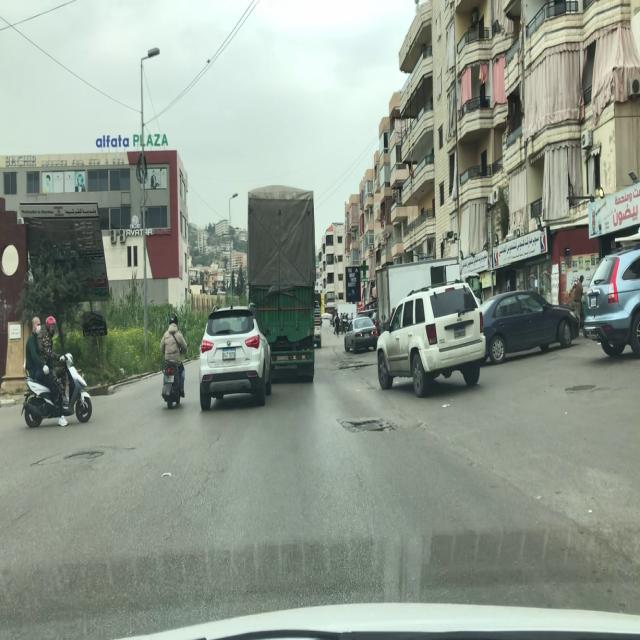Pothole: (339, 416, 395, 432), (62, 450, 106, 462), (339, 362, 375, 371)
